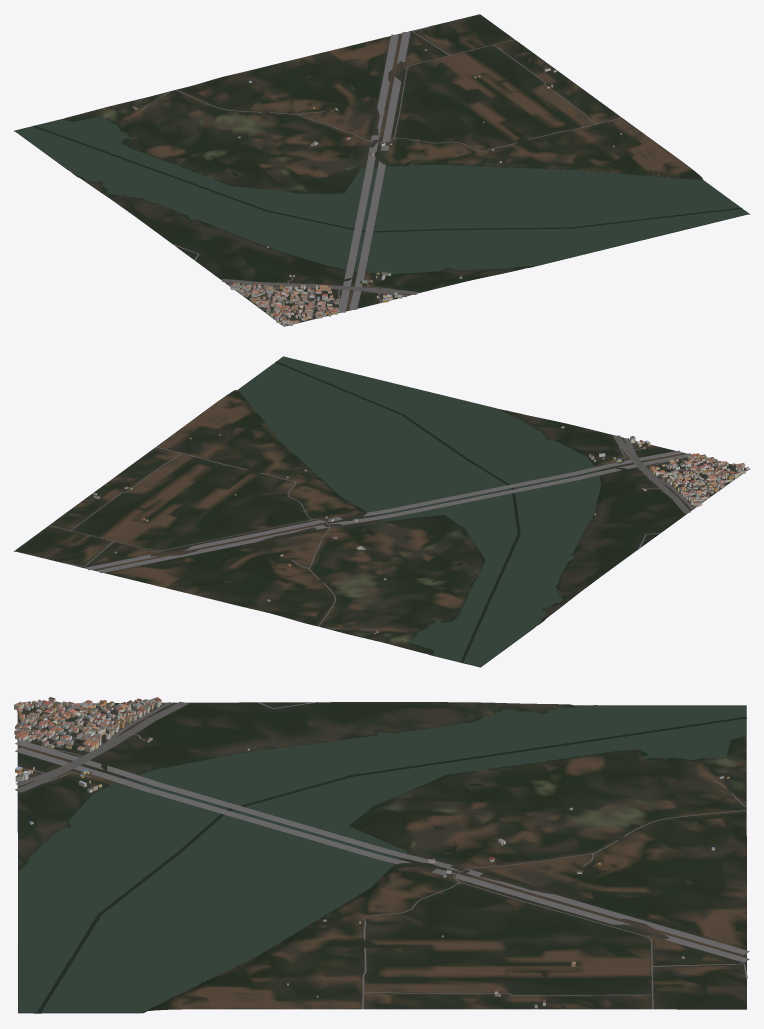
The picture shows the model from 3 angles, top to bottom: view 1: azimuth 30°, elevation 25°; view 2: azimuth 150°, elevation 25°; view 3: azimuth 270°, elevation 25°; orthographic projection. The views are drawn at different scales.
Parts seen in each view (by area): view 1: ground, water, roads, buildings; view 2: ground, water, roads, buildings; view 3: ground, water, roads, buildings.
Boxes of the visible parts, x1,y1,x2,y2 form: ground: (14, 14, 749, 326); water: (15, 116, 748, 296); roads: (141, 25, 621, 325); buildings: (132, 49, 621, 326); ground: (14, 357, 749, 667); water: (238, 356, 671, 666); roads: (49, 435, 747, 630); buildings: (93, 426, 749, 634); ground: (17, 702, 746, 1013); water: (18, 705, 746, 1013); roads: (15, 701, 749, 1009); buildings: (14, 697, 729, 1008).
Bounding box in the file's own units: 1409 × 20.29 × 1415.
